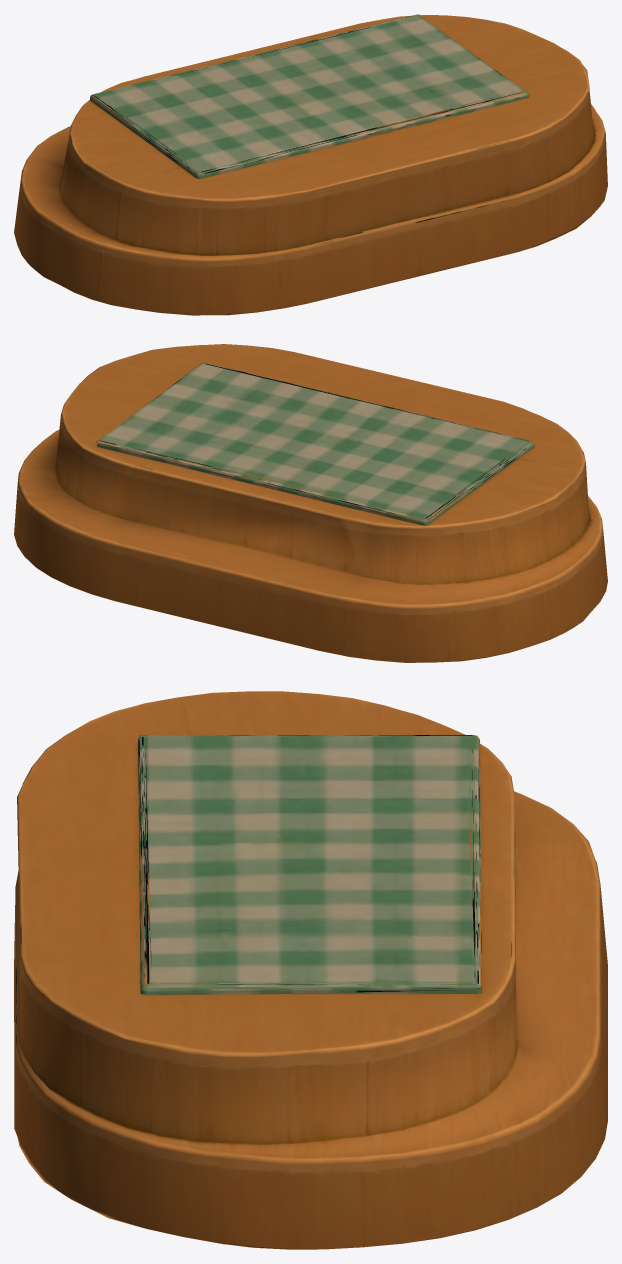
Rendered from interior_shop_display_table.glb.
The picture shows the model from 3 angles, top to bottom: view 1: azimuth 30°, elevation 25°; view 2: azimuth 150°, elevation 25°; view 3: azimuth 270°, elevation 25°; orthographic projection. The views are drawn at different scales.
Visible parts, largest first — view 1: geometry_0; view 2: geometry_0; view 3: geometry_0.
Part boxes in pixels (x1,y1,x2,y2): geometry_0: [14, 14, 607, 315]; geometry_0: [14, 344, 607, 662]; geometry_0: [14, 691, 607, 1249].
Bounding box in the file's own units: 2.4 × 0.5 × 1.46.
1 material, 1 textured.
